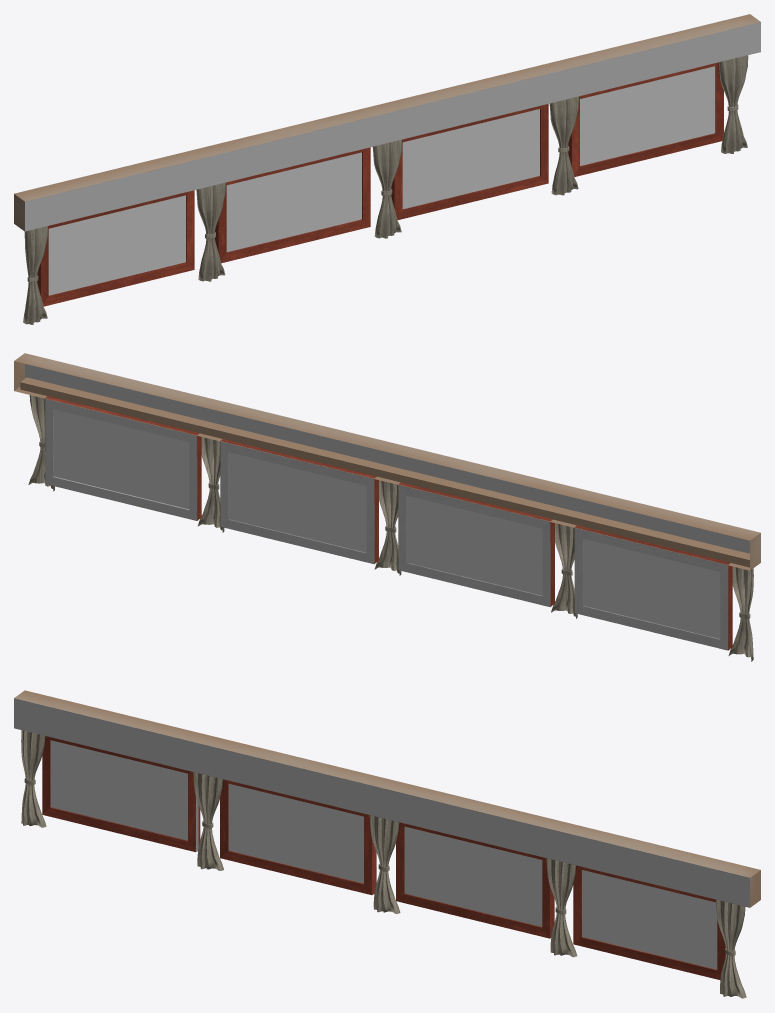
Rendered from SM_Home_Window.fbx.
3 views of the same model, one above another, from view 1: azimuth 30°, elevation 25°; view 2: azimuth 150°, elevation 25°; view 3: azimuth 330°, elevation 25° (orthographic).
Visible parts, largest first — view 1: SM_Home_Window; view 2: SM_Home_Window; view 3: SM_Home_Window.
Boxes of the visible parts, <box> form: SM_Home_Window: <box>14,14,760,324</box>; SM_Home_Window: <box>14,353,760,661</box>; SM_Home_Window: <box>14,690,760,998</box>.
Size of the model in its own units: 716 by 18.27 by 117.
2 materials, 1 textured.
